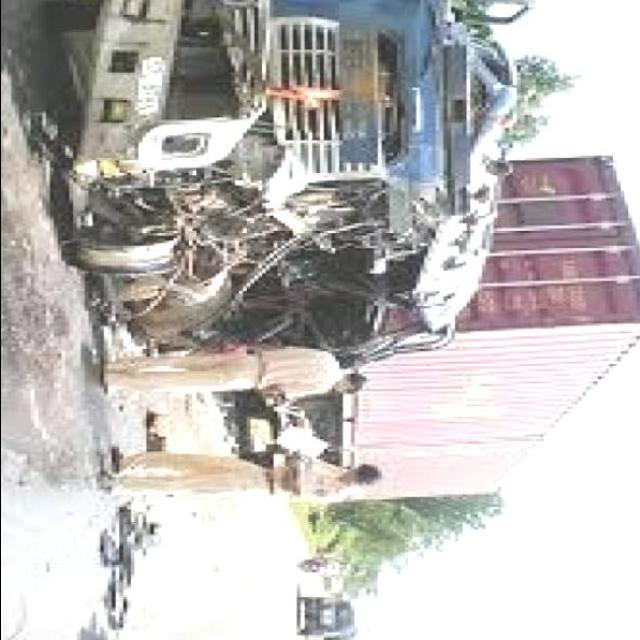accident: (31, 0, 585, 386)
